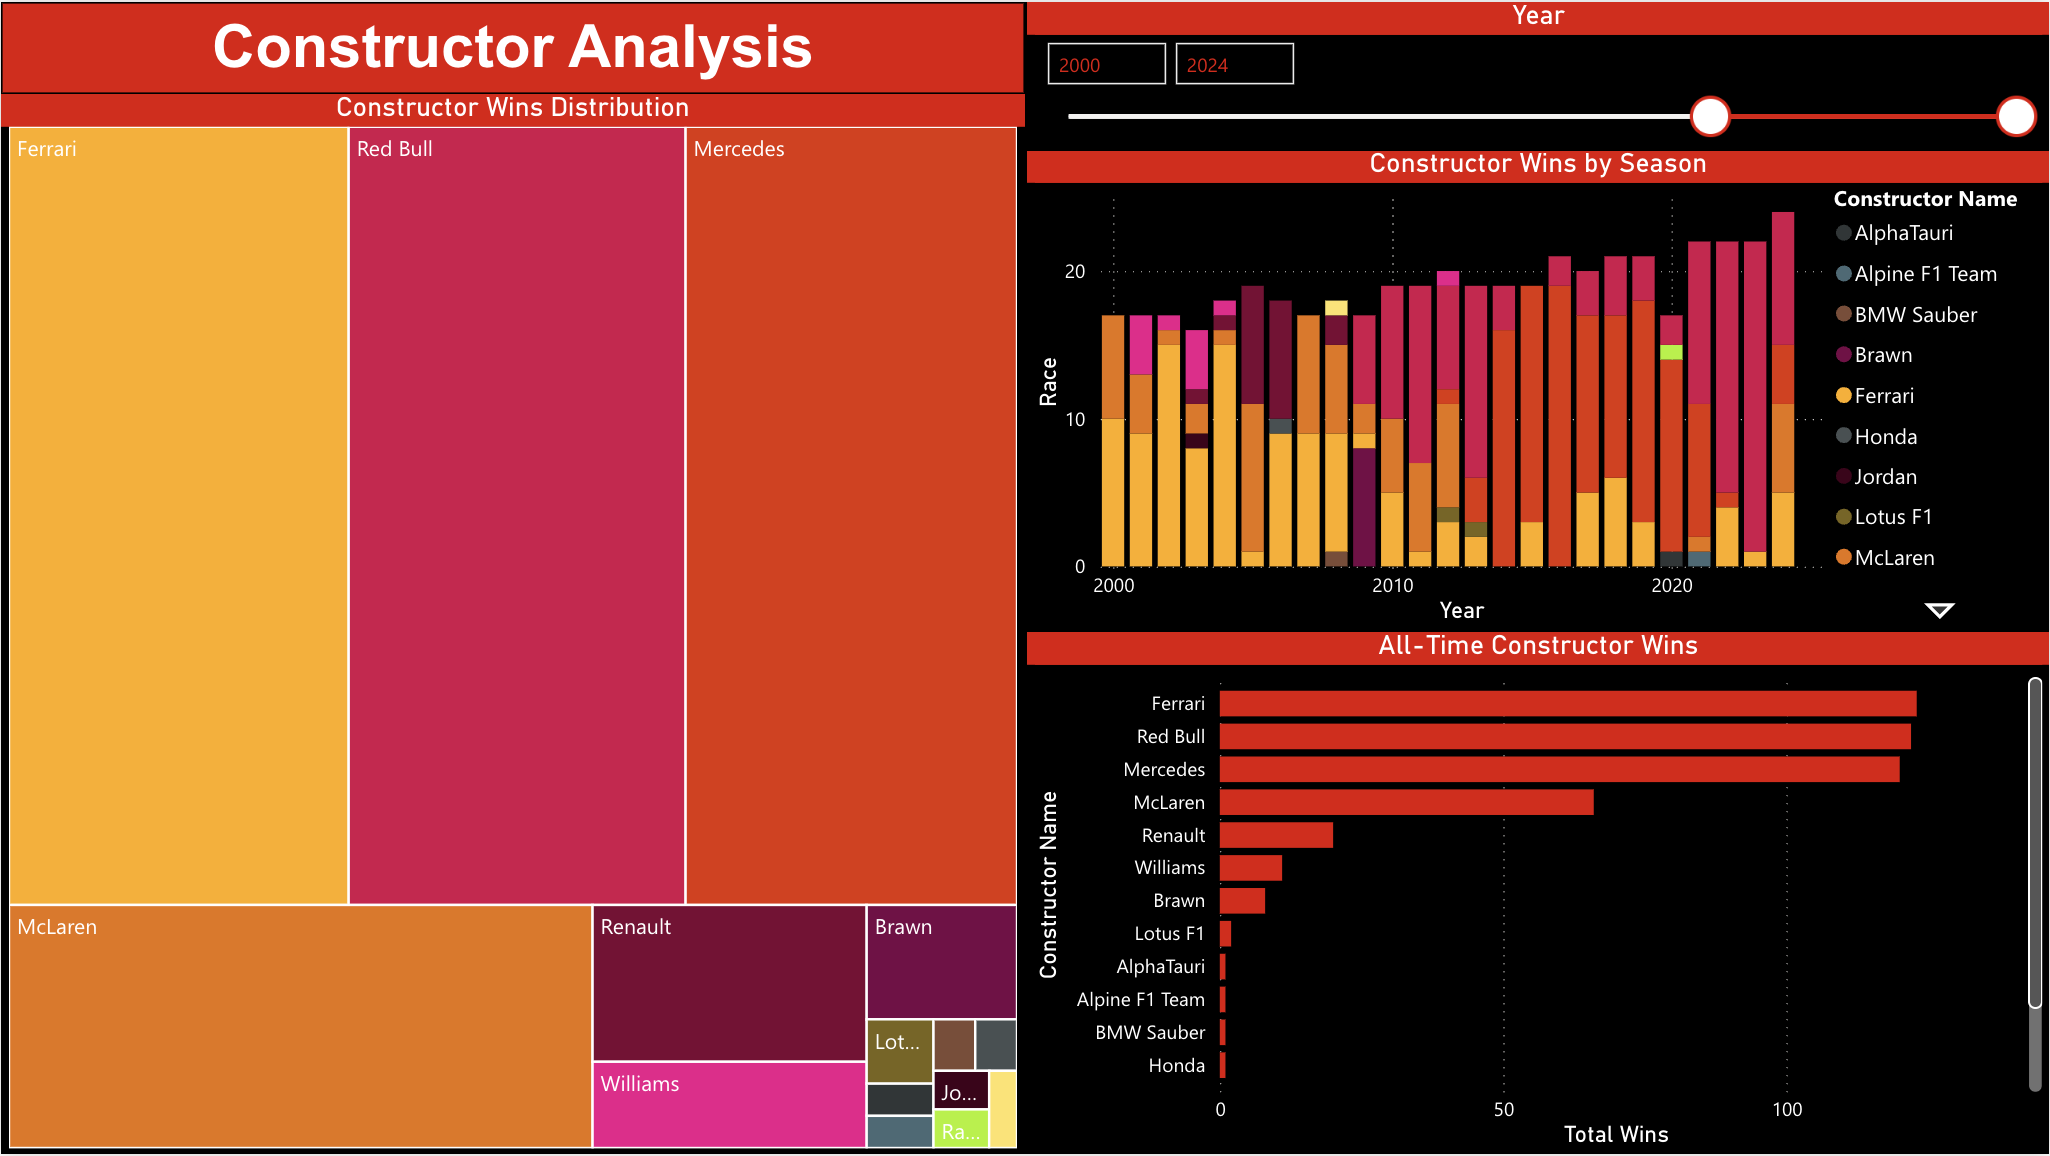

The dashboard page shown, as its layout file describes it:
{"tool":"powerbi","page":{"name":"Constructor","canvas":[1280,720],"ordinal":1},"visuals":[{"type":"columnChart","title":"Constructor Wins by Season","fields":{"Category":["f1_master 1.year"],"Y":["CountNonNull(f1_master 1.raceId)"],"Series":["f1_master 1.constructor_name"]},"box":[640.7,93,639.3,300.7],"z":0},{"type":"barChart","title":"All-Time Constructor Wins","fields":{"Category":["f1_master 1.constructor_name"],"Y":["CountNonNull(f1_master 1.raceId)"]},"box":[640.7,393.7,639.3,326.9],"z":1000},{"type":"treemap","title":"Constructor Wins Distribution","fields":{"Group":["f1_master 1.constructor_name"],"Values":["CountNonNull(f1_master 1.raceId)"]},"box":[0,57.5,640,663.8],"z":2000},{"type":"slicer","title":"Year","fields":{"Values":["f1_master 1.year"]},"box":[640.7,0,639.3,93],"z":3000},{"type":"textbox","box":[0,0,640,57.5],"z":3001}]}

Visuals, with their boxes in screenshot pixels (x1, y1, x2, y2), scaled from the page's 1280x720 canvas onto the 2050x1156 screenshot:
"Constructor Wins by Season" columnChart: bbox=(1026, 149, 2049, 632)
"All-Time Constructor Wins" barChart: bbox=(1026, 632, 2049, 1155)
"Constructor Wins Distribution" treemap: bbox=(0, 92, 1025, 1155)
"Year" slicer: bbox=(1026, 0, 2049, 149)
textbox: bbox=(0, 0, 1025, 92)
